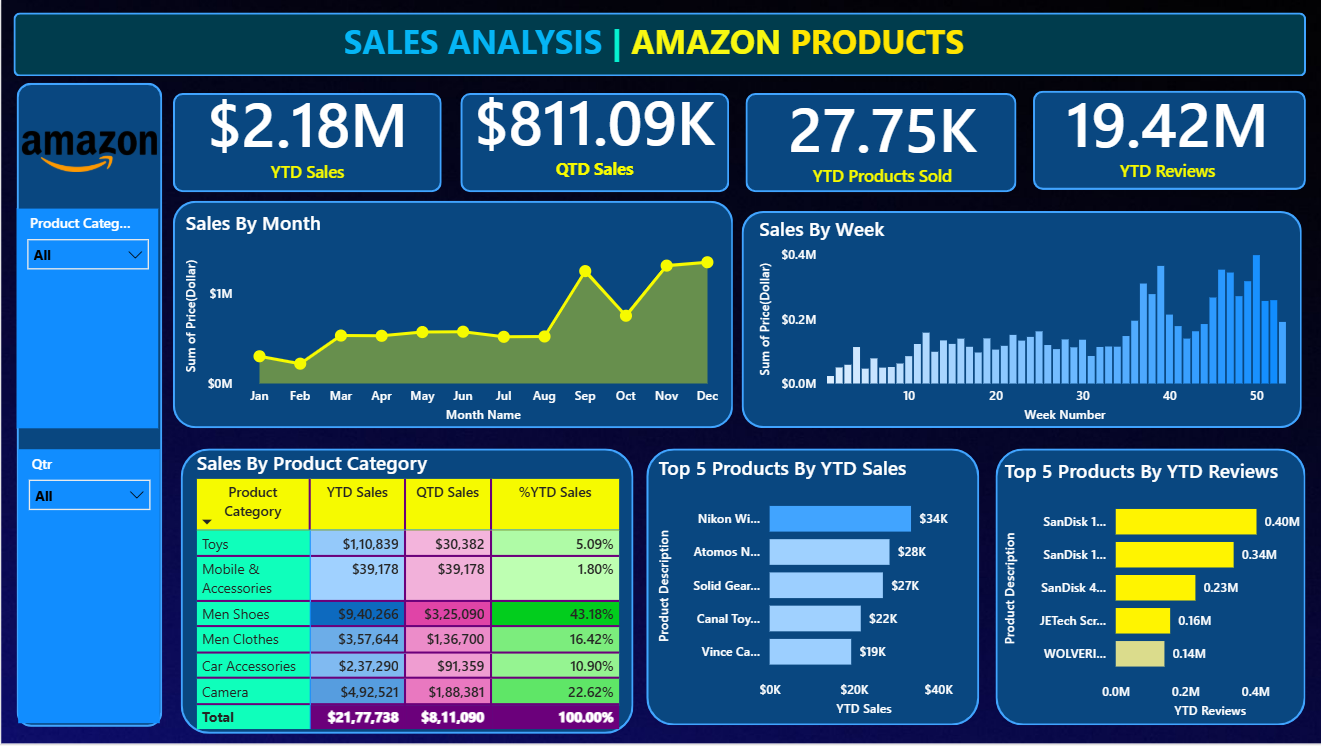

The dashboard page shown, as its layout file describes it:
{"tool":"powerbi","page":{"name":"Page 1","canvas":[1280,720],"ordinal":0},"visuals":[{"type":"shape","box":[12,12,1250,62],"z":0},{"type":"textbox","box":[15,12.5,1232.5,77.5],"z":1000},{"type":"shape","box":[15.3,79.8,140.9,622.9],"z":2000},{"type":"shape","box":[166,90,260,96],"z":3000},{"type":"card","fields":{"Values":["Amazon_Data.YTD Sales"]},"box":[166,68,260,118],"z":4000},{"type":"shape","box":[720,90,262,96],"z":5000},{"type":"shape","box":[444,90,260,96],"z":6000},{"type":"card","fields":{"Values":["Amazon_Data.QTD Sales"]},"box":[452,72,244,106],"z":7000},{"type":"shape","box":[998,88,264,96],"z":8000},{"type":"card","fields":{"Values":["Amazon_Data.YTD Products Sold"]},"box":[722,76,260,110],"z":9000},{"type":"card","fields":{"Values":["Amazon_Data.YTD Reviews"]},"box":[998,72,260,110],"z":10000},{"type":"shape","box":[166,194,542,220],"z":11000},{"type":"areaChart","title":"Sales By Month","fields":{"Category":["Date Table.Month Name"],"Y":["Sum(Amazon_Data.Price(Dollar))"]},"box":[174,202,530,212],"z":12000},{"type":"shape","box":[716,204,542,210],"z":13000},{"type":"columnChart","title":"Sales By Week","fields":{"Category":["Date Table.Week Number"],"Y":["Sum(Amazon_Data.Price(Dollar))"]},"box":[728,208,540,206],"z":14000},{"type":"shape","box":[174,434,438,276],"z":15000},{"type":"pivotTable","title":"Sales By Product Category ","fields":{"Rows":["Amazon_Data.Product Category"],"Values":["Amazon_Data.YTD Sales","Amazon_Data.QTD Sales","Amazon_Data.YTD Sales1"]},"box":[184,434,420,286],"z":16000},{"type":"shape","box":[624,434,322,268],"z":17000},{"type":"shape","box":[962,434,300,268],"z":18000},{"type":"clusteredBarChart","title":"Top 5 Products By YTD Sales","fields":{"Category":["Amazon_Data.Product Description"],"Y":["Amazon_Data.YTD Sales"]},"box":[631.2,439.1,314.1,259.4],"z":19000},{"type":"clusteredBarChart","title":"Top 5 Products By YTD Reviews","fields":{"Y":["Amazon_Data.YTD Reviews"],"Category":["Amazon_Data.Product Description"]},"box":[965.3,441.8,314.3,258.2],"z":20000},{"type":"slicer","fields":{"Values":["Amazon_Data.Product Category"]},"box":[15.3,202,137.5,212.1],"z":20501},{"type":"slicer","fields":{"Values":["Date Table.Qtr"]},"box":[17,434.5,137.5,264.8],"z":20502},{"type":"image","box":[15.3,83.2,140.9,125.6],"z":20503}]}

Visuals, with their boxes in screenshot pixels (x1, y1, x2, y2), scaled from the page's 1280x720 canvas onto the 1321x746 screenshot:
shape: 12 12 1302 77
textbox: 15 13 1287 93
shape: 16 83 161 728
shape: 171 93 440 193
card - Amazon_Data.YTD Sales: 171 70 440 193
shape: 743 93 1013 193
shape: 458 93 727 193
card - Amazon_Data.QTD Sales: 466 75 718 184
shape: 1030 91 1302 191
card - Amazon_Data.YTD Products Sold: 745 79 1013 193
card - Amazon_Data.YTD Reviews: 1030 75 1298 189
shape: 171 201 731 429
"Sales By Month" areaChart: 180 209 727 429
shape: 739 211 1298 429
"Sales By Week" columnChart: 751 216 1309 429
shape: 180 450 632 736
"Sales By Product Category " pivotTable: 190 450 623 745
shape: 644 450 976 727
shape: 993 450 1302 727
"Top 5 Products By YTD Sales" clusteredBarChart: 651 455 976 724
"Top 5 Products By YTD Reviews" clusteredBarChart: 996 458 1320 725
slicer - Amazon_Data.Product Category: 16 209 158 429
slicer - Date Table.Qtr: 18 450 159 725
image: 16 86 161 216
